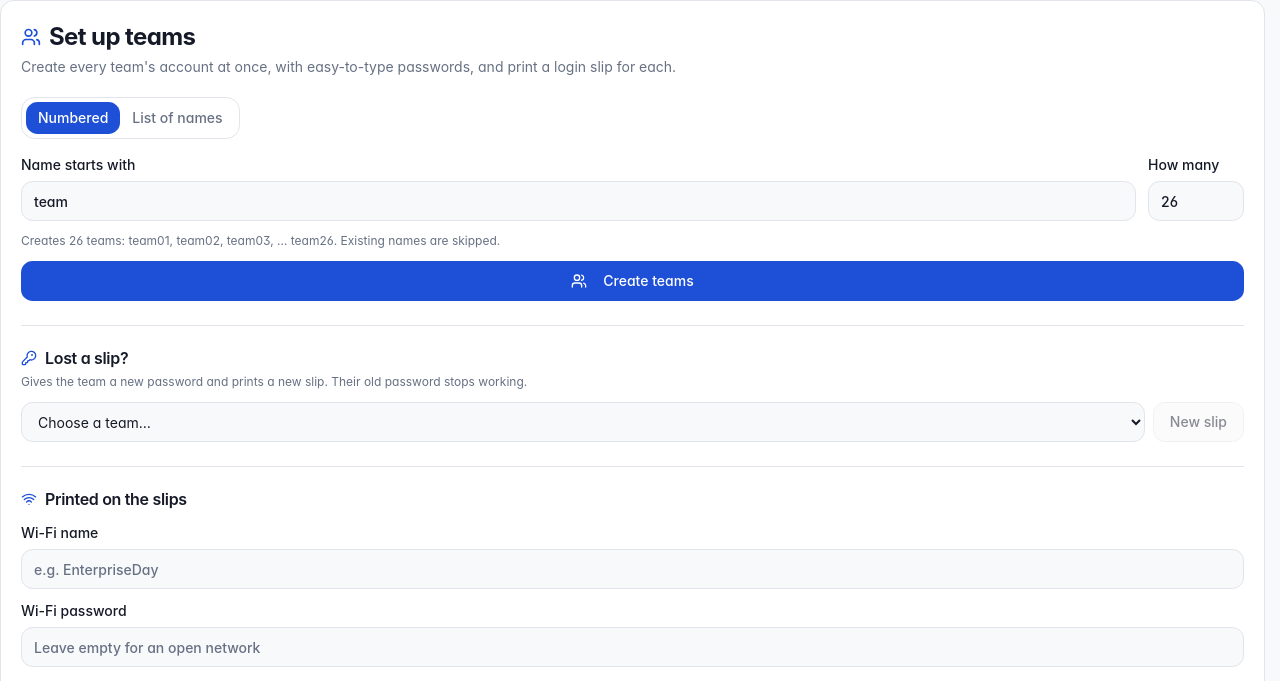
it: TeamSetupPanel › shows the new passwords once, explains skipped names, and prints slips for the till printer
Later steps or results of the test are not shown.
Replace the text in the number field labelled "How many" with "2": (1196,201) [1148,181,1244,221]
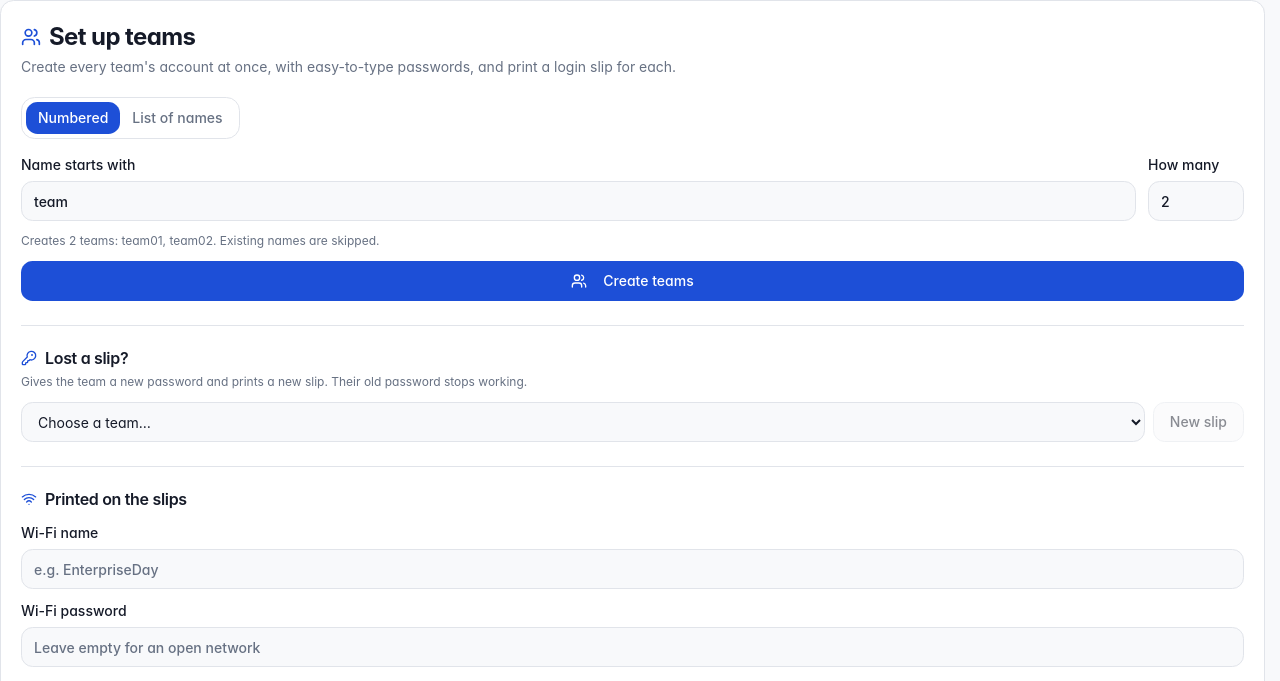
Click the button "Create teams": (632,281) [21,261,1244,301]
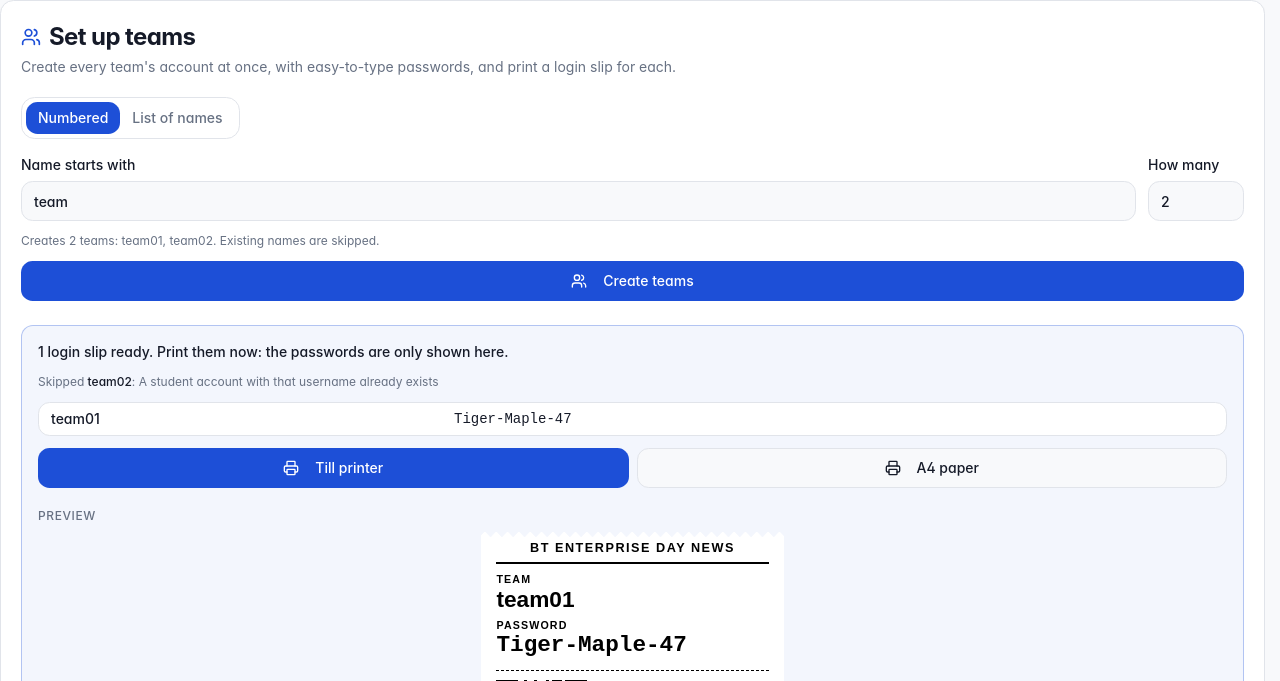
Expected: the text "1 login slip ready. Print them now: the passwords are only shown here." is shown, [38,343,508,360]
Expected: the text "Tiger-Maple-47" is shown, [442,403,1226,435]
Expected: the list item "already exists" is shown, [139,374,438,389]
